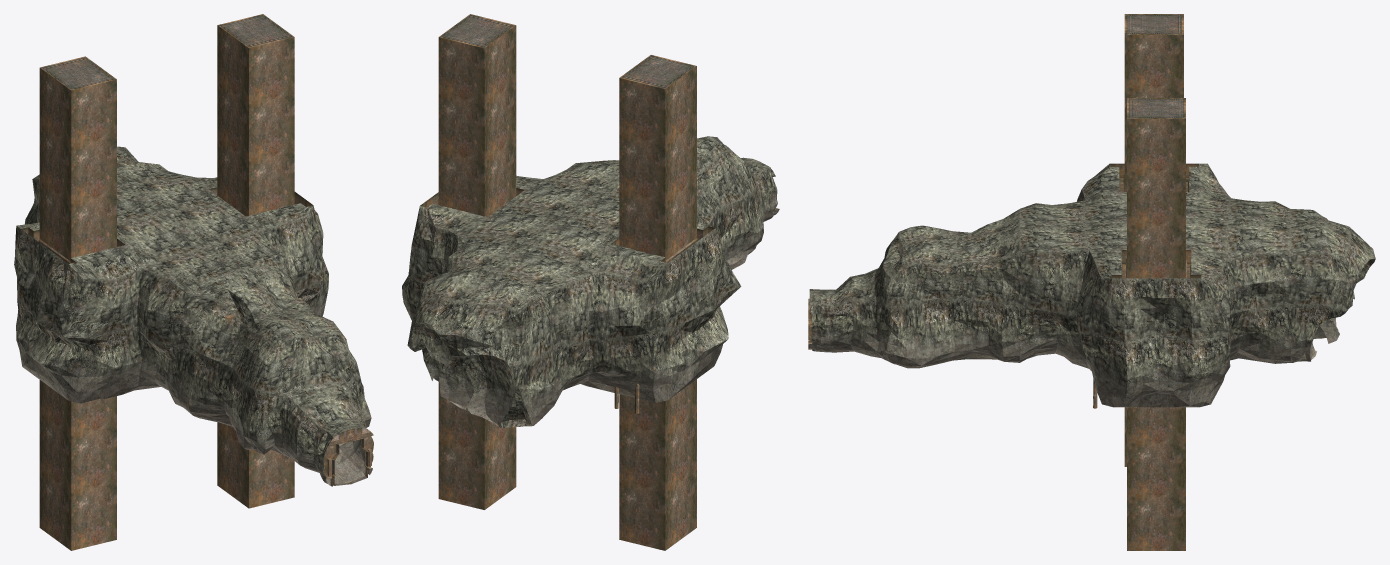
File: poi_all_bunker_allum_mine_r50_largeroom50_mesh_r50.fbx
3 views of the same model, side by side, from view 1: azimuth 30°, elevation 25°; view 2: azimuth 150°, elevation 25°; view 3: azimuth 270°, elevation 25° (orthographic). The views are drawn at different scales.
Parts seen in each view (by area): view 1: mesh_node; view 2: mesh_node; view 3: mesh_node.
Boxes of the visible parts, x1=… form: mesh_node: x1=14, y1=14, x2=373, y2=550; mesh_node: x1=402, y1=14, x2=779, y2=550; mesh_node: x1=808, y1=14, x2=1375, y2=550.
Bounding box in the file's own units: 37.15 × 56.6 × 67.08.
